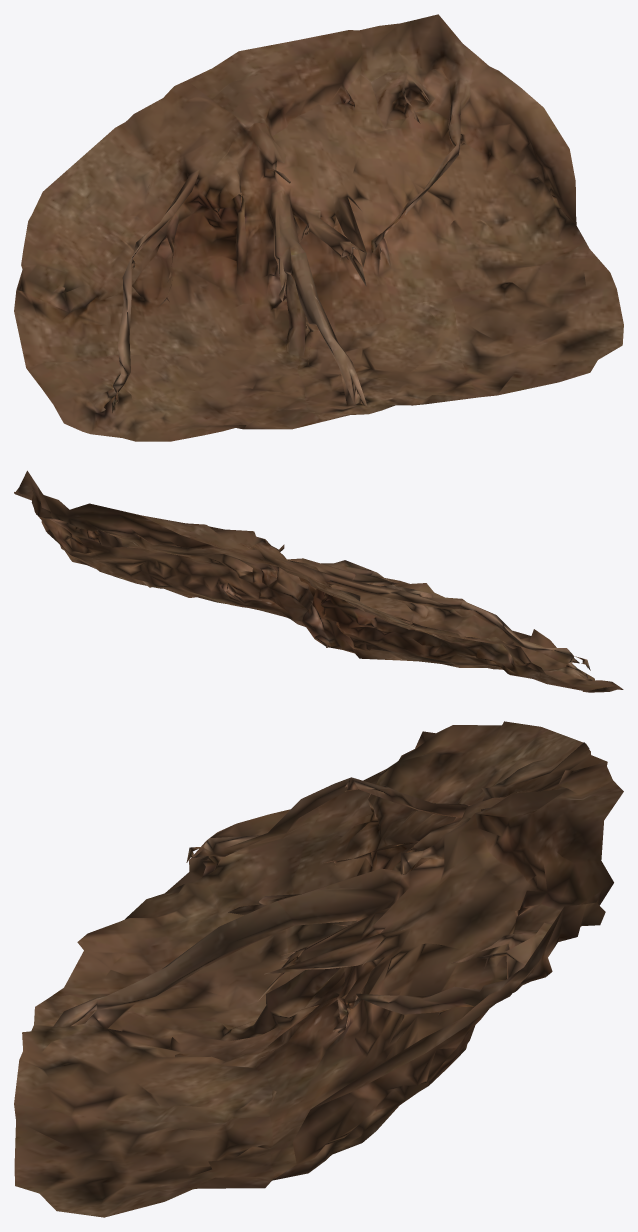
Rendered from root_cluster_01_lod1.glb.
3 renders of one model, top to bottom at view 1: azimuth 30°, elevation 25°; view 2: azimuth 150°, elevation 25°; view 3: azimuth 270°, elevation 25°, orthographic. The views are drawn at different scales.
Visible parts, largest first — view 1: root_cluster_01; view 2: root_cluster_01; view 3: root_cluster_01.
Part boxes in pixels (x1=…): root_cluster_01: x1=14, y1=14, x2=623, y2=441; root_cluster_01: x1=14, y1=470, x2=623, y2=692; root_cluster_01: x1=14, y1=721, x2=623, y2=1217.
Size of the model in its own units: 4.11 by 1.5 by 2.68.
Materials: 1 (1 with a texture image).
